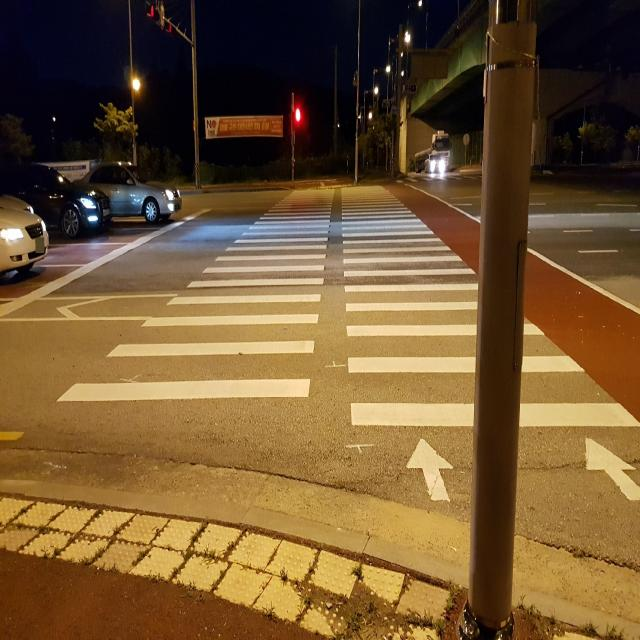빨간불: (294, 107, 304, 131)
횡단보도: (53, 185, 640, 504)
